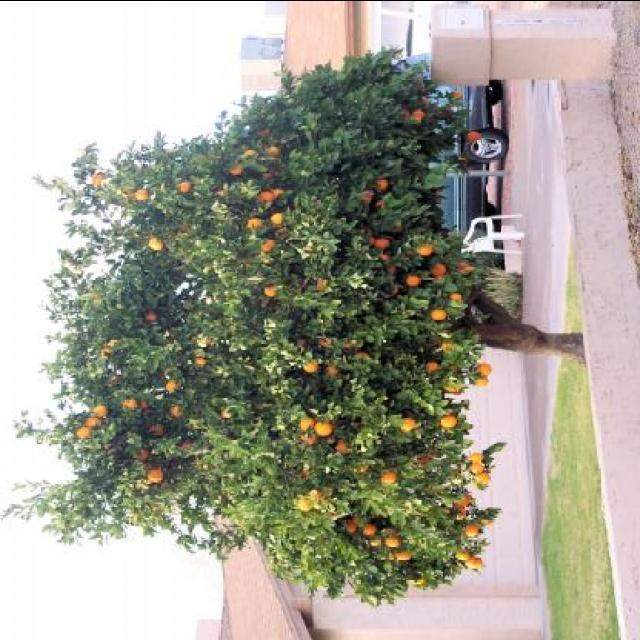Orange: (298, 361, 328, 379), (312, 424, 338, 442), (470, 453, 486, 475), (433, 415, 461, 427), (356, 522, 378, 536), (268, 212, 282, 230), (472, 476, 490, 487), (298, 415, 310, 427), (422, 240, 431, 256), (346, 518, 358, 528), (388, 536, 398, 546)
